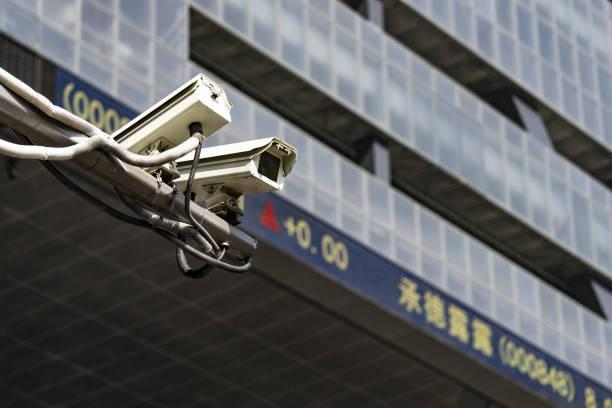camera: (74, 68, 237, 162), (177, 120, 305, 221)
